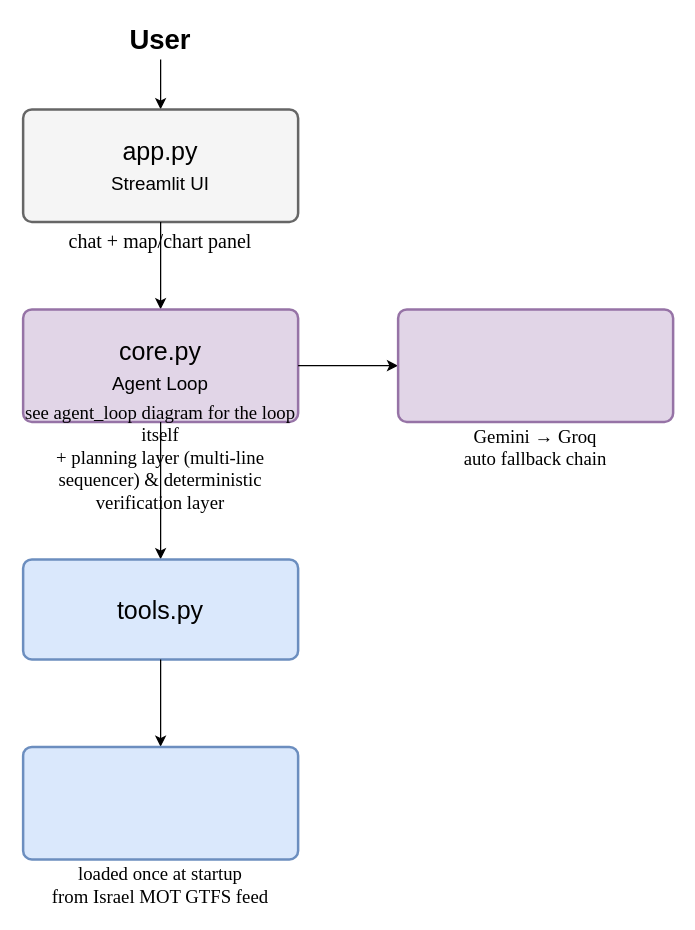
The diagram is 695 pixels wide and 930 high, and some of its shapes have lost their labels. The shapes that lost their labels are listed below. From the top down, each one's box as (x1, y1, x2, y2) in pixels, then its label:
(396, 308, 674, 422): LLM Providers
(21, 745, 299, 860): GTFS Data DuckDB (in-memory)
